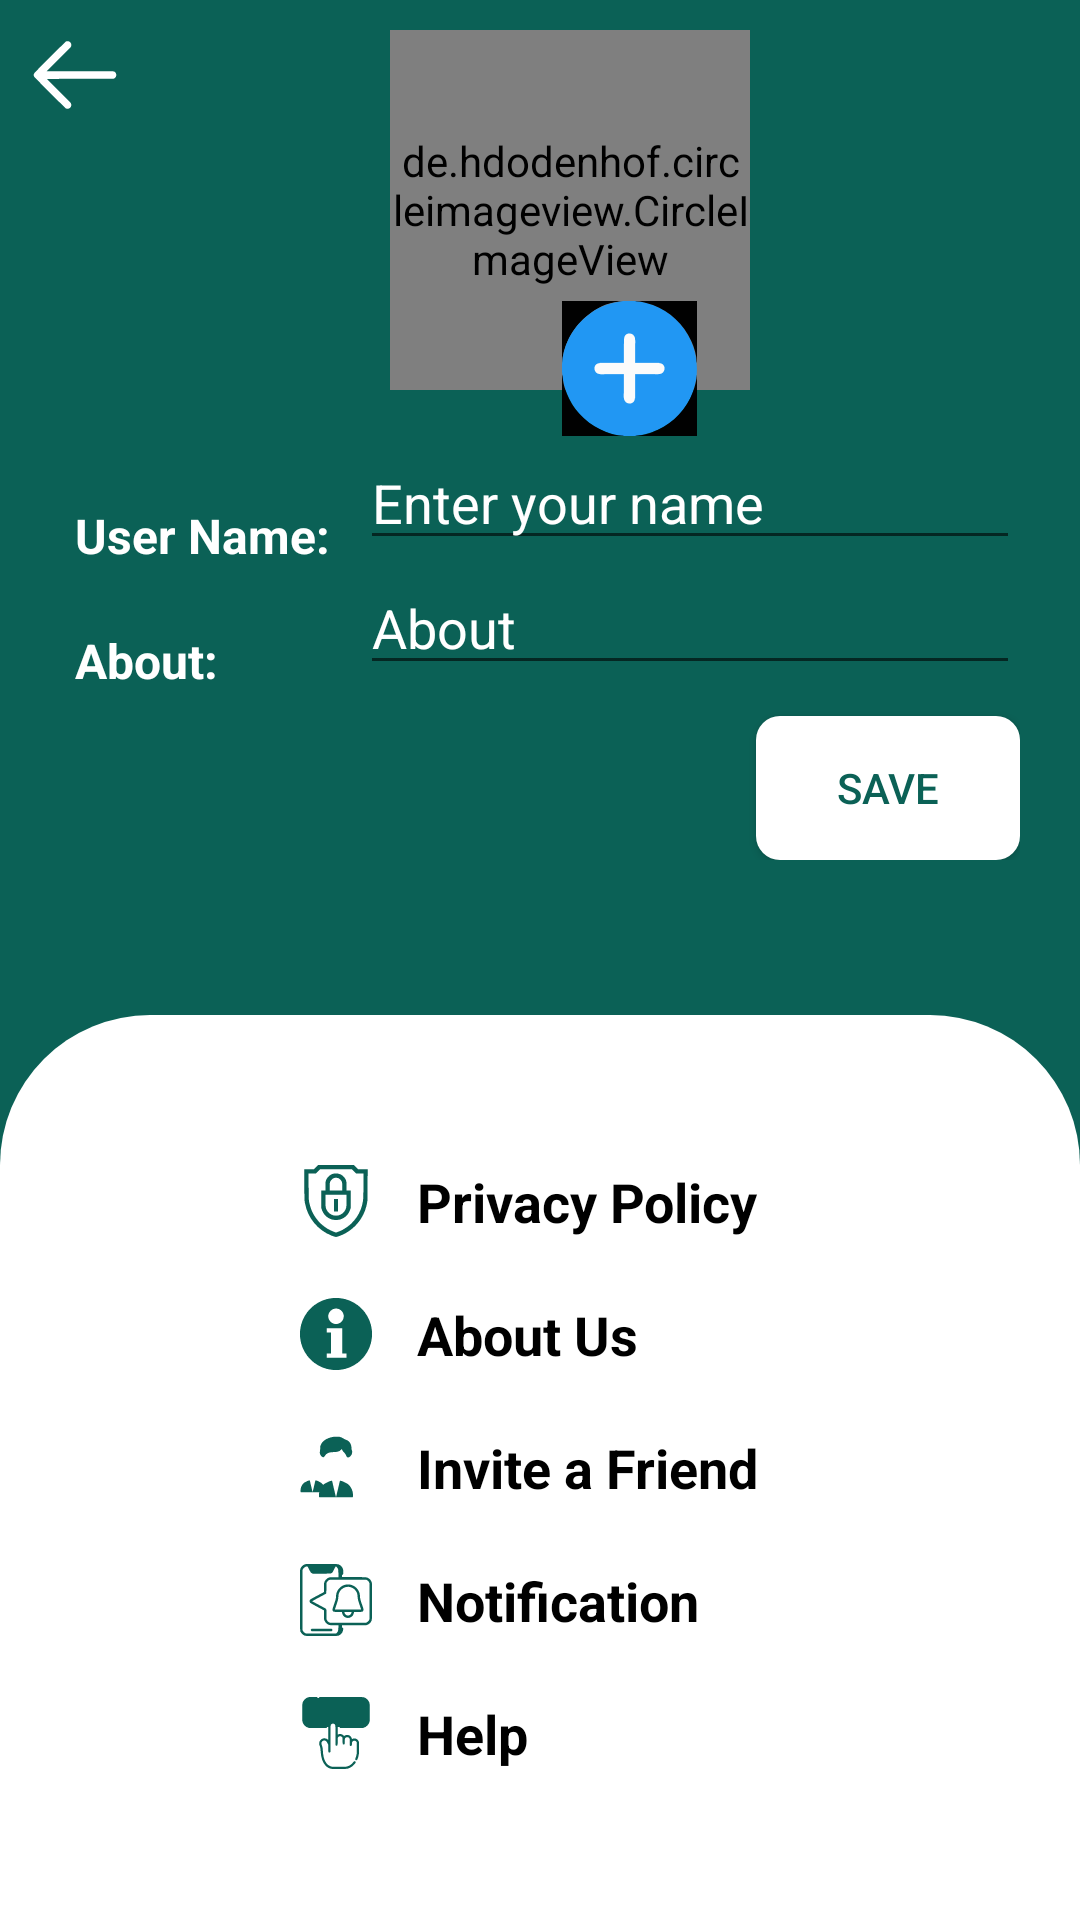

Icon click points for this 1080 x 1920 phone screenshot, format point (x, y):
back arrow: point (75, 75)
plus: point (629, 368)
